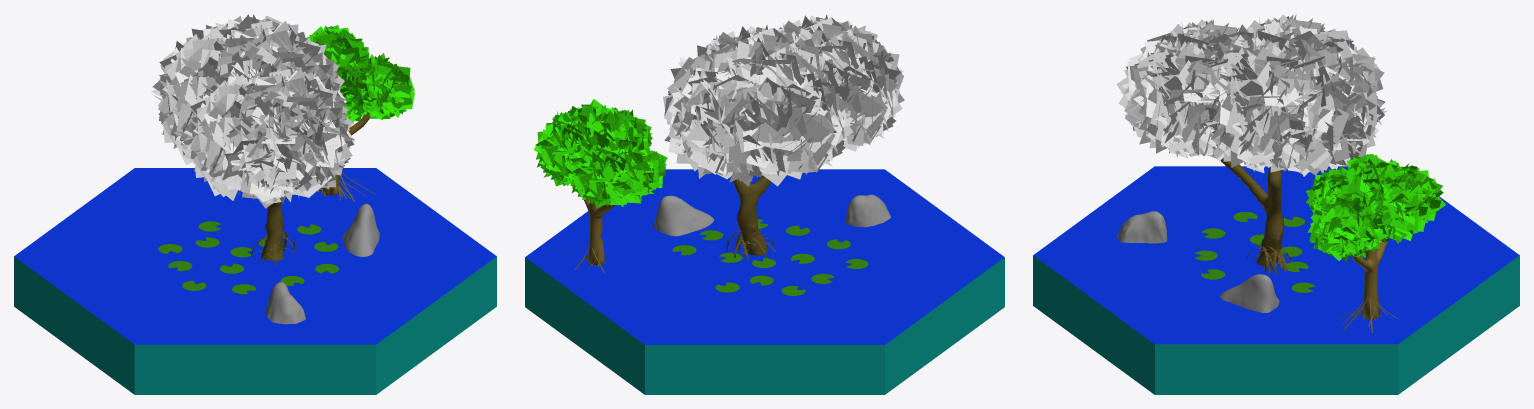
The model's file is Tuile_Eau_Foret_Niv2.fbx.
3 views of the same model, side by side, from view 1: azimuth 30°, elevation 25°; view 2: azimuth 150°, elevation 25°; view 3: azimuth 270°, elevation 25° (orthographic).
Visible parts, largest first — view 1: Tuile, Plane.010, Cylinder.001, niv1.004, niv1.003; view 2: Tuile, Plane.010, Cylinder.001, niv1.004, niv1.003; view 3: Tuile, Plane.010, Cylinder.001, niv1.004, niv1.003.
Boxes of the visible parts, box(x1,y1,x2,y2) form: Tuile: box(14, 168, 496, 394); Plane.010: box(151, 14, 355, 265); Cylinder.001: box(306, 25, 414, 201); niv1.004: box(265, 204, 379, 324); niv1.003: box(158, 221, 339, 294); Tuile: box(525, 169, 1004, 394); Plane.010: box(663, 14, 904, 259); Cylinder.001: box(534, 99, 667, 273); niv1.004: box(653, 194, 890, 236); niv1.003: box(672, 219, 868, 295); Tuile: box(1033, 166, 1519, 394); Plane.010: box(1116, 14, 1386, 274); Cylinder.001: box(1305, 154, 1445, 332); niv1.004: box(1117, 211, 1279, 312); niv1.003: box(1195, 212, 1365, 292).
Size of the model in its own units: 109 by 78.57 by 124.
